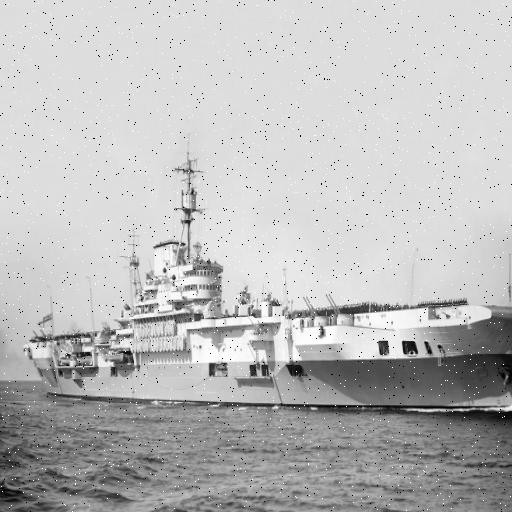Portanaves: (19, 136, 512, 418)
